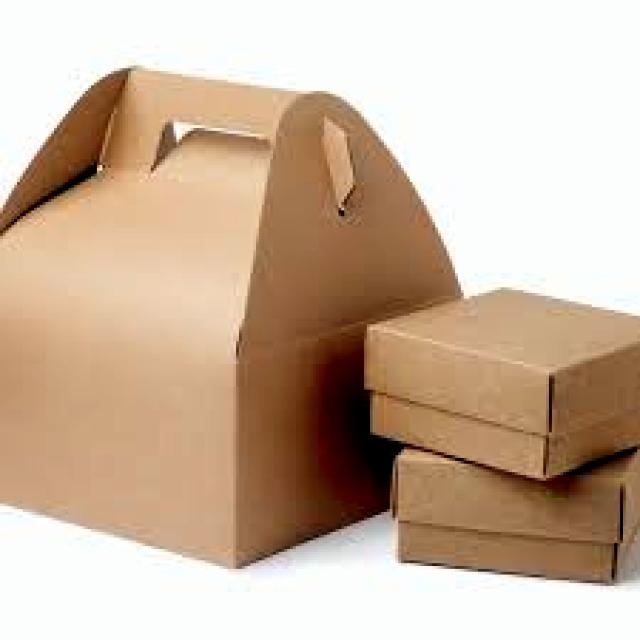Cardboard: (0, 58, 469, 575), (358, 286, 640, 474), (389, 447, 640, 579)
